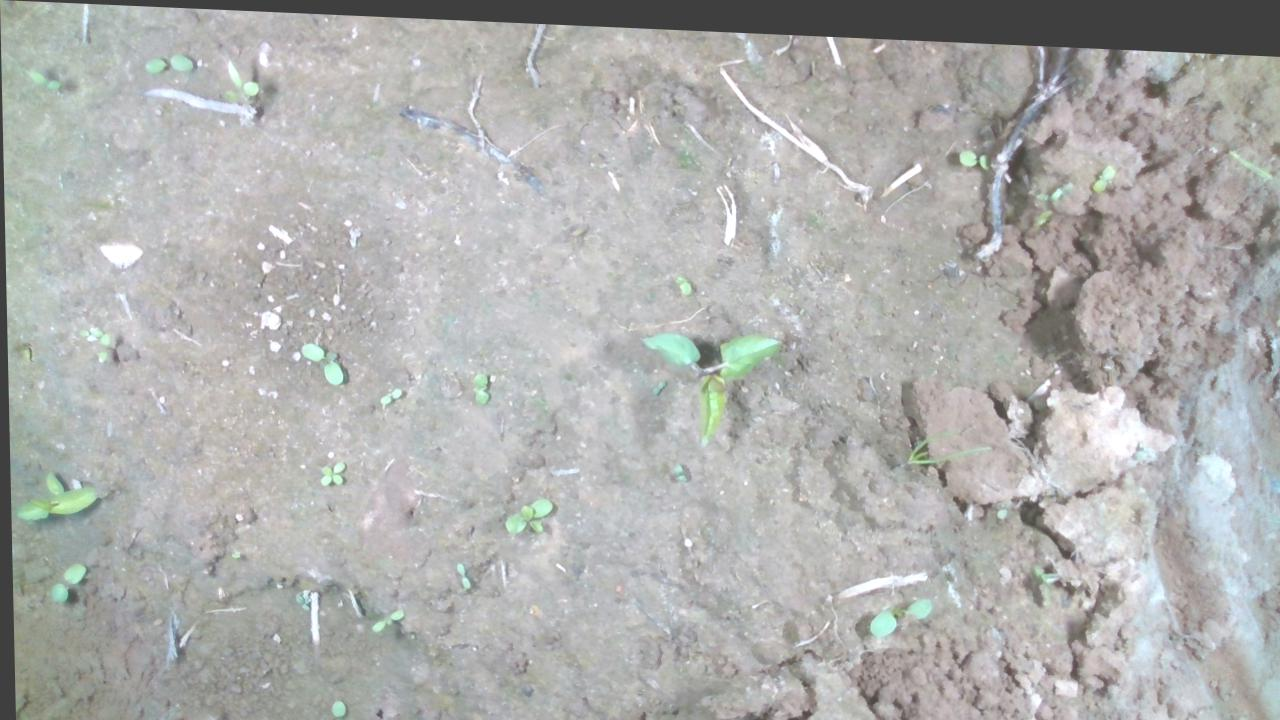weed: (864, 585, 930, 631), (498, 488, 552, 535), (297, 337, 342, 383), (43, 558, 84, 605), (140, 48, 193, 74), (366, 603, 402, 630), (956, 137, 994, 162), (467, 366, 490, 402), (24, 68, 61, 90), (316, 455, 344, 484), (1090, 151, 1115, 183), (325, 694, 348, 719), (374, 381, 401, 402), (452, 556, 469, 586), (670, 268, 692, 290), (648, 368, 665, 389)
